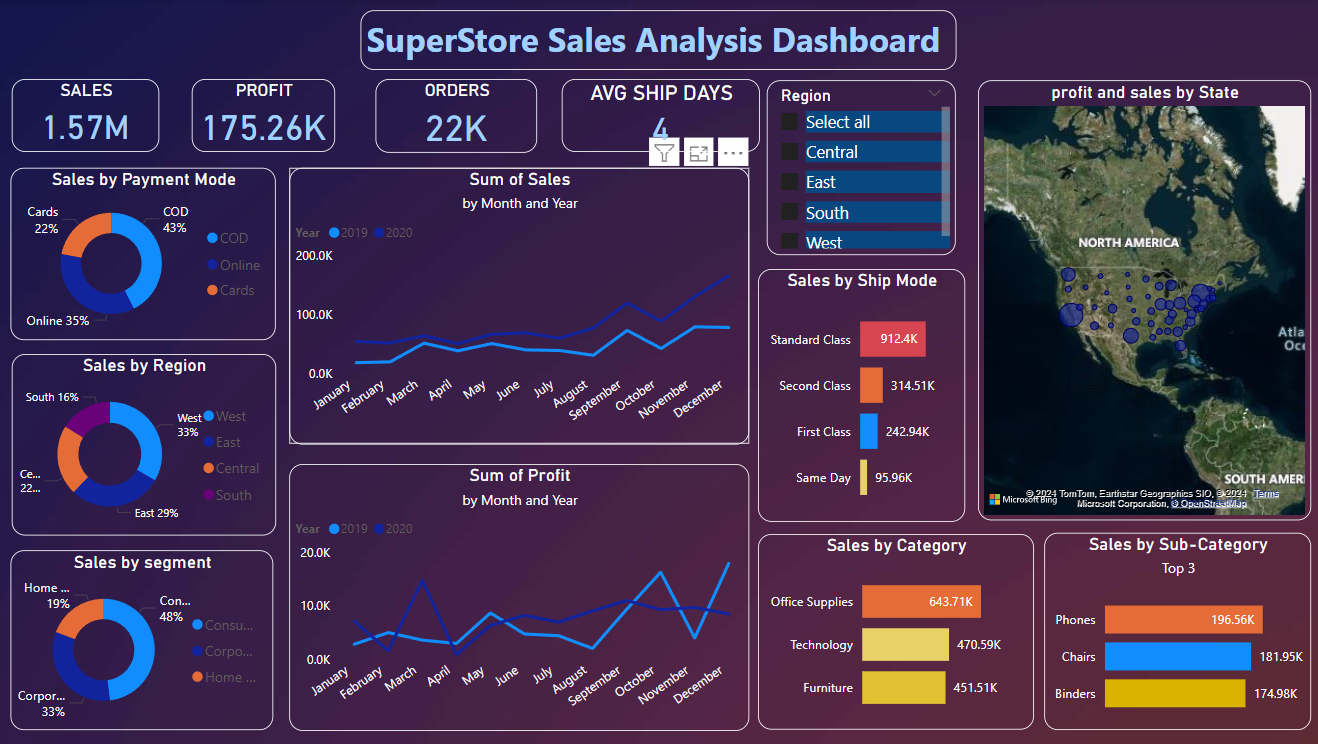

This screenshot's page, from the dashboard's own definition file:
{"tool":"powerbi","page":{"name":"Page 1","canvas":[1280,720],"ordinal":0},"visuals":[{"type":"textbox","box":[350,11.2,575,57.5],"z":0},{"type":"barChart","title":"Sales by Category","fields":{"Category":["SuperStore_Sales_Dataset.Category"],"Y":["Sum(SuperStore_Sales_Dataset.Sales)"]},"box":[733.8,516.2,266.2,188.8],"z":1000},{"type":"barChart","title":"Sales by Sub-Category","fields":{"Y":["Sum(SuperStore_Sales_Dataset.Sales)"],"Category":["SuperStore_Sales_Dataset.Sub-Category"]},"box":[1010,515,257.5,190],"z":2000},{"type":"barChart","title":"Sales by Ship Mode","fields":{"Y":["Sum(SuperStore_Sales_Dataset.Sales)"],"Category":["SuperStore_Sales_Dataset.Ship Mode"]},"box":[733.8,260,200,243.8],"z":3000},{"type":"donutChart","title":"Sales by Payment Mode","fields":{"Y":["Sum(SuperStore_Sales_Dataset.Sales)"],"Category":["SuperStore_Sales_Dataset.Payment Mode"]},"box":[12.5,162.5,256.2,166.2],"z":4000},{"type":"donutChart","title":"Sales by Region","fields":{"Y":["Sum(SuperStore_Sales_Dataset.Sales)"],"Category":["SuperStore_Sales_Dataset.Region"]},"box":[13.8,342.5,255,175],"z":5000},{"type":"donutChart","title":"Sales by segment","fields":{"Y":["Sum(SuperStore_Sales_Dataset.Sales)"],"Category":["SuperStore_Sales_Dataset.Segment"]},"box":[12.5,532.5,253.8,173.8],"z":6000},{"type":"lineChart","fields":{"Y":["Sum(SuperStore_Sales_Dataset.Sales)"],"Series":["SuperStore_Sales_Dataset.Order Date.Variation.Date Hierarchy.Year"],"Category":["SuperStore_Sales_Dataset.Order Date.Variation.Date Hierarchy.Month"]},"box":[281.2,162.5,443.8,267.5],"z":7000},{"type":"lineChart","fields":{"Series":["SuperStore_Sales_Dataset.Order Date.Variation.Date Hierarchy.Year"],"Category":["SuperStore_Sales_Dataset.Order Date.Variation.Date Hierarchy.Month"],"Y":["Sum(SuperStore_Sales_Dataset.Profit)"]},"box":[281.2,448.8,443.8,257.5],"z":8000},{"type":"map","title":"profit and sales by State","fields":{"Category":["SuperStore_Sales_Dataset.State"],"Size":["Sum(SuperStore_Sales_Dataset.Sales)"]},"box":[946.2,78.8,321.2,425],"z":9000},{"type":"slicer","fields":{"Values":["SuperStore_Sales_Dataset.Region"]},"box":[742.5,78.8,182.5,168.8],"z":10000},{"type":"card","title":"SALES","fields":{"Values":["Sum(SuperStore_Sales_Dataset.Sales)"]},"box":[13.8,77.5,142.5,70],"z":11000},{"type":"card","title":"PROFIT","fields":{"Values":["Sum(SuperStore_Sales_Dataset.Profit)"]},"box":[187.5,77.5,138.8,70],"z":12000},{"type":"card","title":"ORDERS","fields":{"Values":["Sum(SuperStore_Sales_Dataset.Quantity)"]},"box":[363.8,77.5,156.2,71.2],"z":13000},{"type":"card","title":"AVG SHIP DAYS","fields":{"Values":["Avg(SuperStore_Sales_Dataset.Avgdelivery)"]},"box":[543.8,77.5,191.2,70],"z":14000}]}

Visuals, with their boxes in screenshot pixels (x1, y1, x2, y2), scaled from the page's 1280x720 canvas onto the 1318x744 screenshot:
textbox: bbox=(360, 12, 952, 71)
"Sales by Category" barChart: bbox=(756, 533, 1030, 729)
"Sales by Sub-Category" barChart: bbox=(1040, 532, 1305, 729)
"Sales by Ship Mode" barChart: bbox=(756, 269, 962, 521)
"Sales by Payment Mode" donutChart: bbox=(13, 168, 277, 340)
"Sales by Region" donutChart: bbox=(14, 354, 277, 535)
"Sales by segment" donutChart: bbox=(13, 550, 274, 730)
lineChart - Sum(SuperStore_Sales_Dataset.Sales) x SuperStore_Sales_Dataset.Order Date.Variation.Date Hierarchy.Year: bbox=(290, 168, 747, 444)
lineChart - SuperStore_Sales_Dataset.Order Date.Variation.Date Hierarchy.Year x SuperStore_Sales_Dataset.Order Date.Variation.Date Hierarchy.Month: bbox=(290, 464, 747, 730)
"profit and sales by State" map: bbox=(974, 81, 1305, 521)
slicer - SuperStore_Sales_Dataset.Region: bbox=(765, 81, 952, 256)
"SALES" card: bbox=(14, 80, 161, 152)
"PROFIT" card: bbox=(193, 80, 336, 152)
"ORDERS" card: bbox=(375, 80, 535, 154)
"AVG SHIP DAYS" card: bbox=(560, 80, 757, 152)
